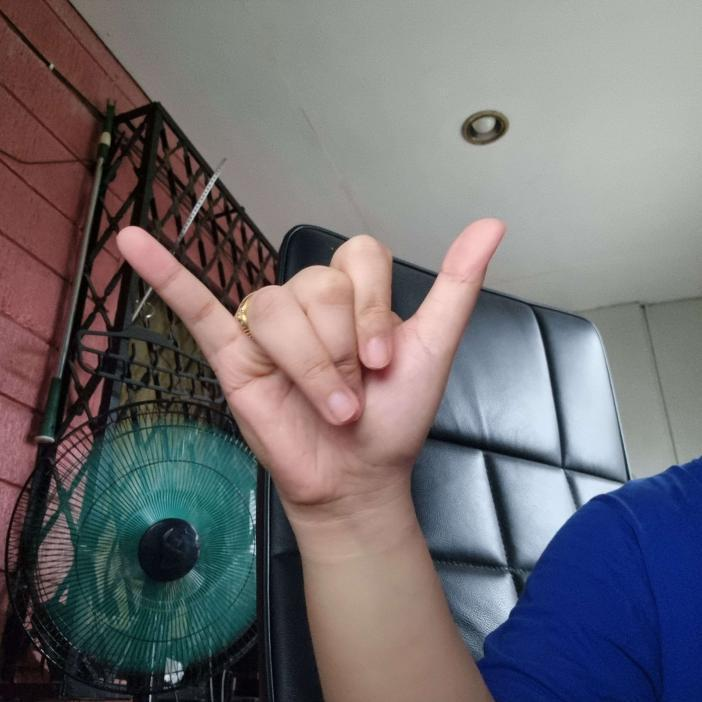y: (117, 217, 508, 511)
